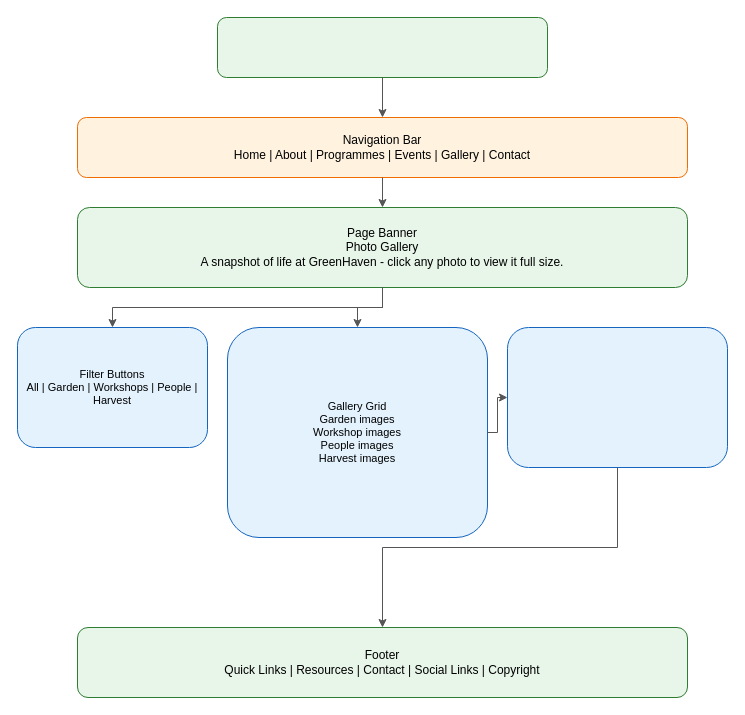
This 745x715 diagram has some shape labels left out. Each missing label, with the centre of its shape:
Gallery Page (gallery.html): the point at 382,47
Lightbox Modal Large image view Caption Close button: the point at 617,397
